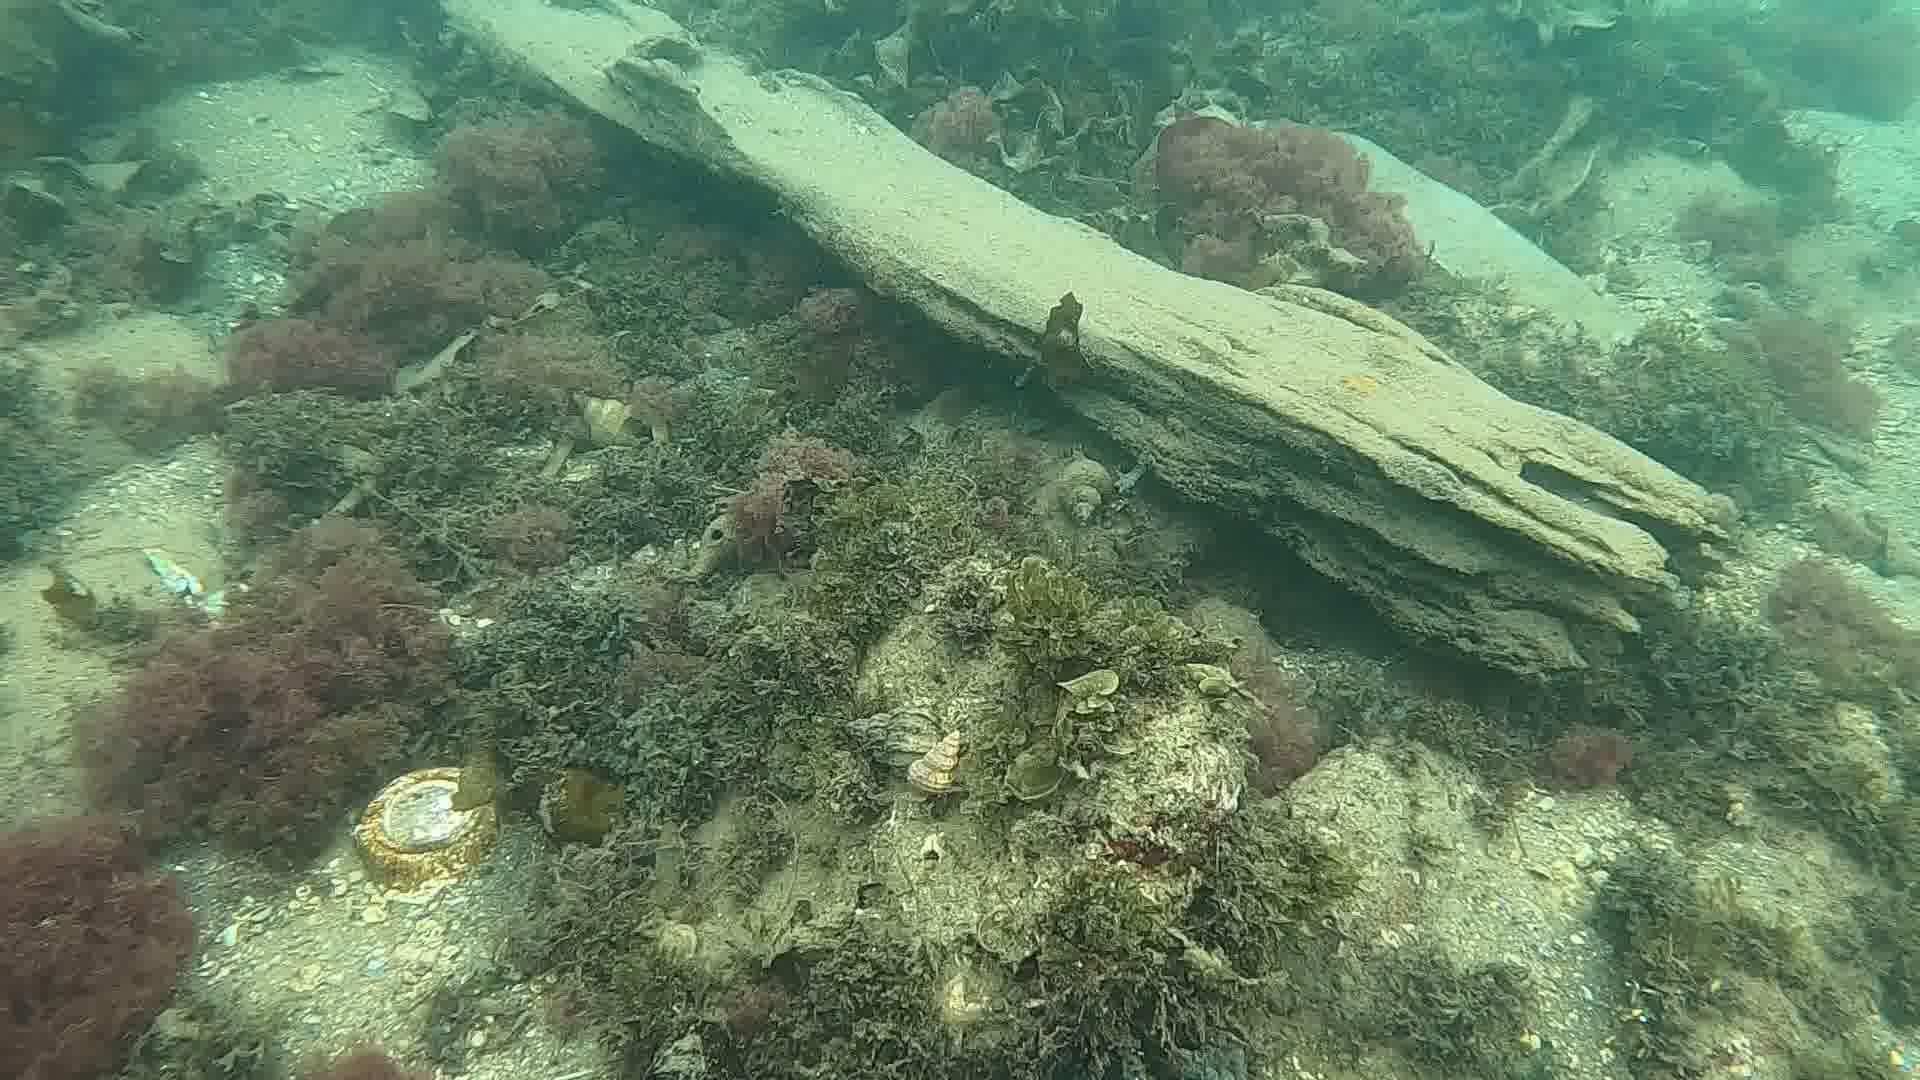wood: (429, 0, 1745, 688)
